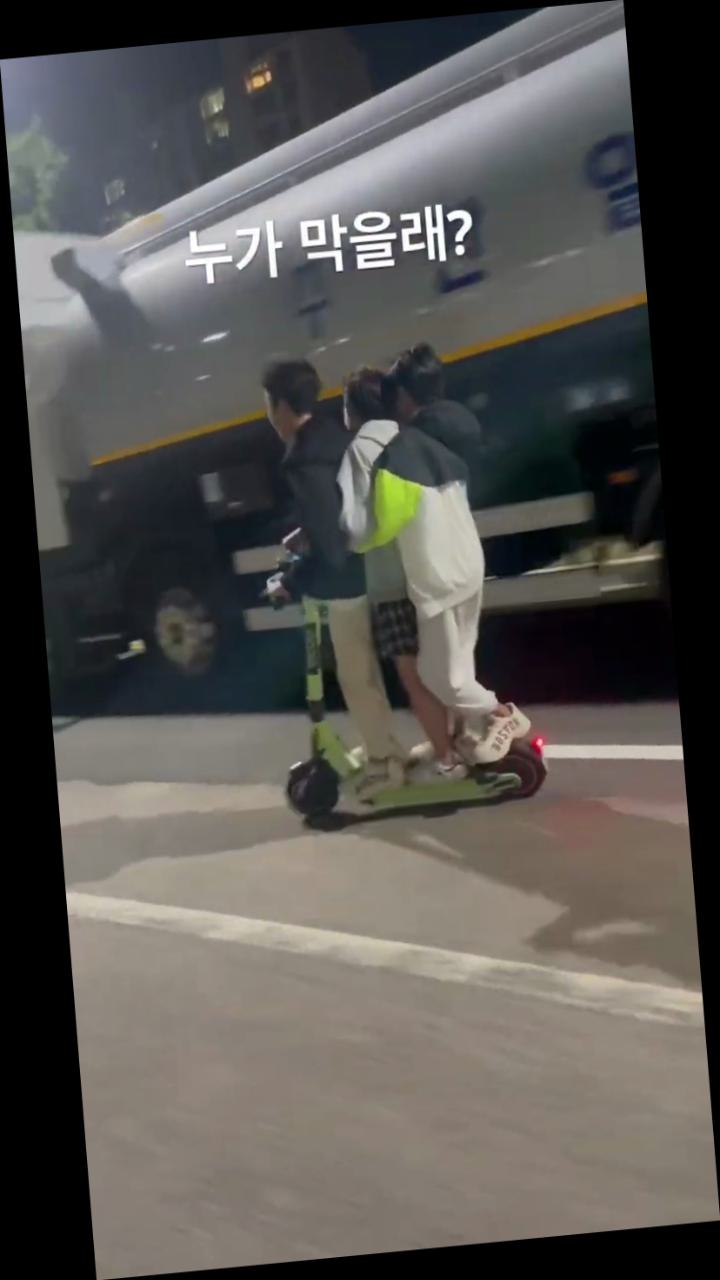multiple: (245, 328, 557, 839)
